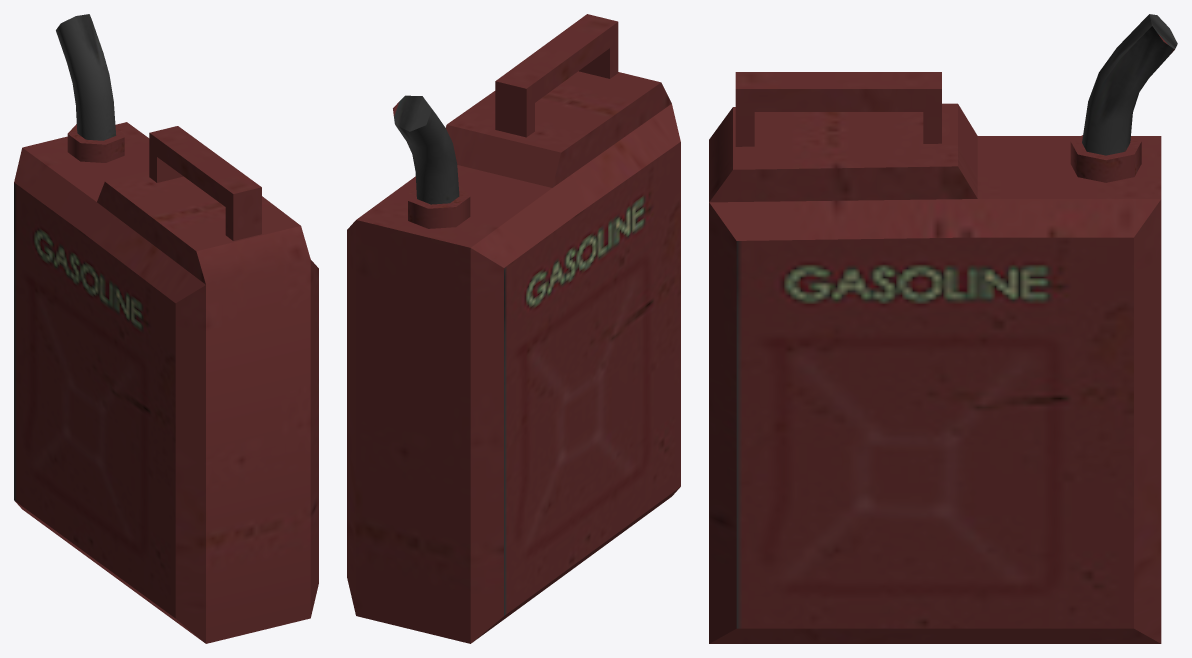
File: item_gasoline.dae
3 views of the same model, side by side, from view 1: azimuth 30°, elevation 25°; view 2: azimuth 150°, elevation 25°; view 3: azimuth 270°, elevation 25° (orthographic). The views are drawn at different scales.
Visible parts, largest first — view 1: gasoline; view 2: gasoline; view 3: gasoline.
Part boxes in pixels (x1,y1,x2,y2): gasoline: (14, 14, 318, 643); gasoline: (347, 14, 680, 643); gasoline: (709, 14, 1177, 643).
Size of what is drawn, in the model's own units: 0.2421 by 0.7831 by 0.5577.
